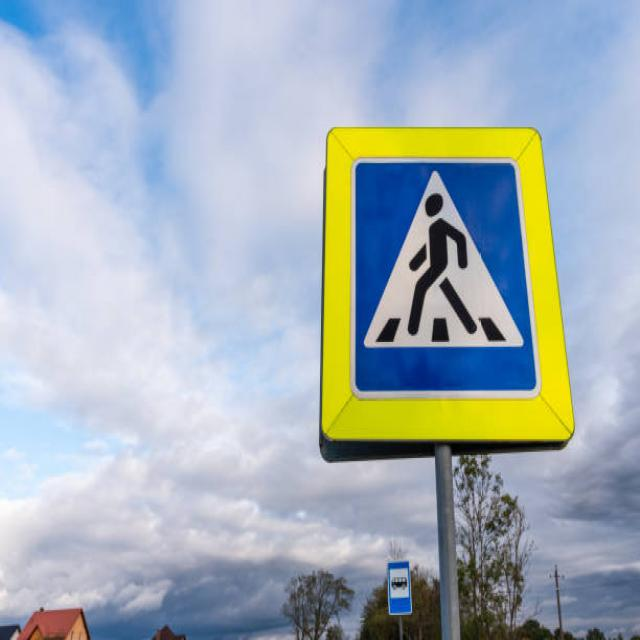crosswalk: (342, 148, 542, 407)
